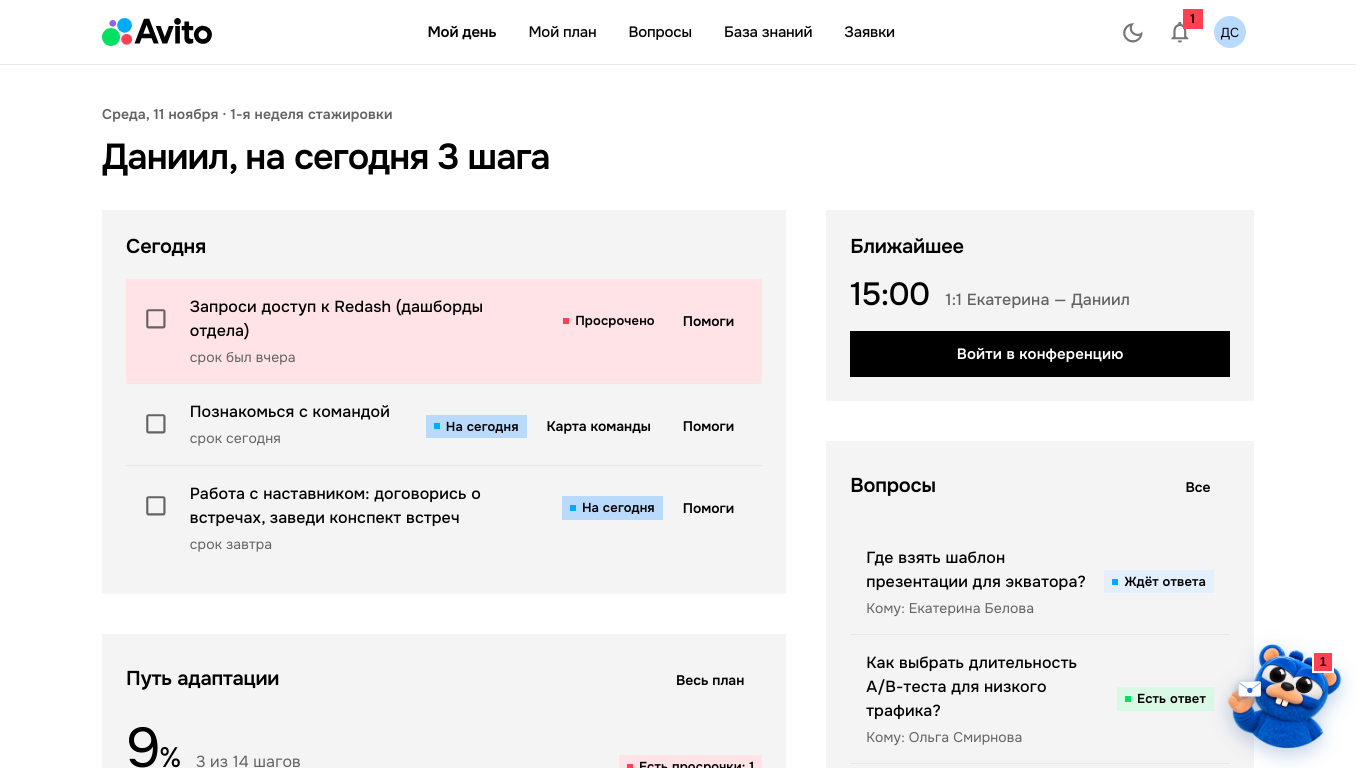
it: стажёр › при сбое модели видит упрощённый режим и повторяет вопрос
The image size is (1366, 768).
Expected: the heading "Даниил, на сегодня 3 шага" is shown, [102,137,550,178]
Click the button named "Открыть чат с Напарником": {"x": 1284, "y": 695} [1227,643,1342,748]
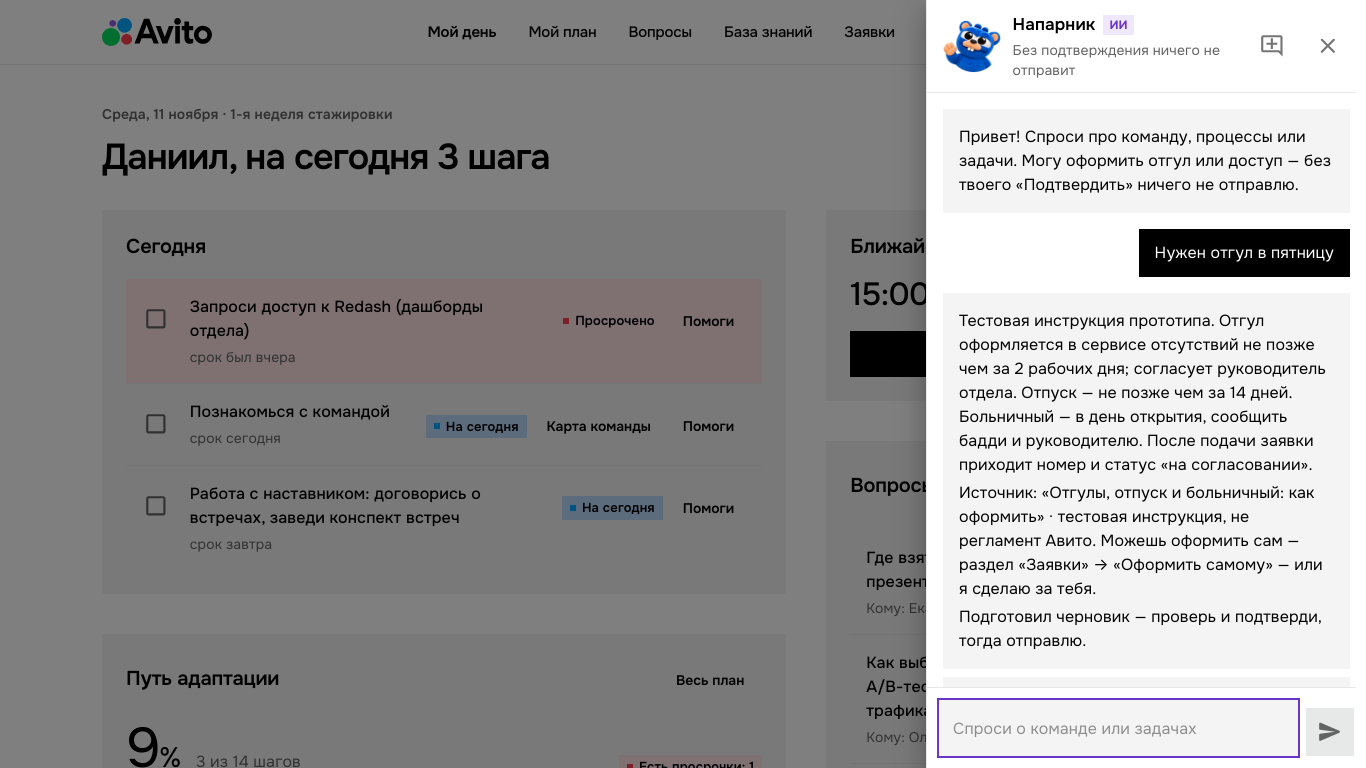
In the text box with placeholder "Спроси о команде или задачах": {"x": 1118, "y": 728} [953,716,1284,740], type "Что такое витрина?"
Then press Enter
(page scrolled)
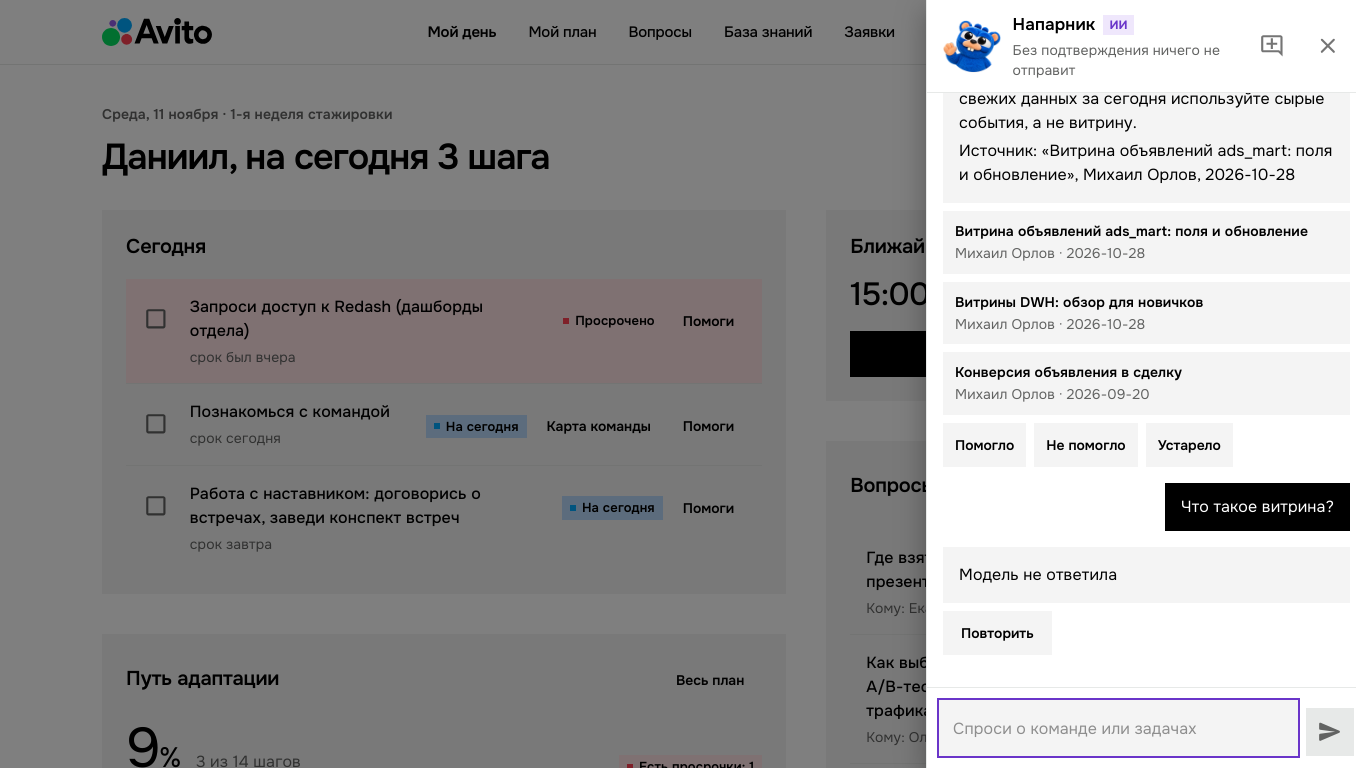
Expected: the text "Модель не ответила" is shown, [959,564,1117,585]
Click the button "Повторить": {"x": 997, "y": 633} [943,611,1052,656]
(page scrolled)
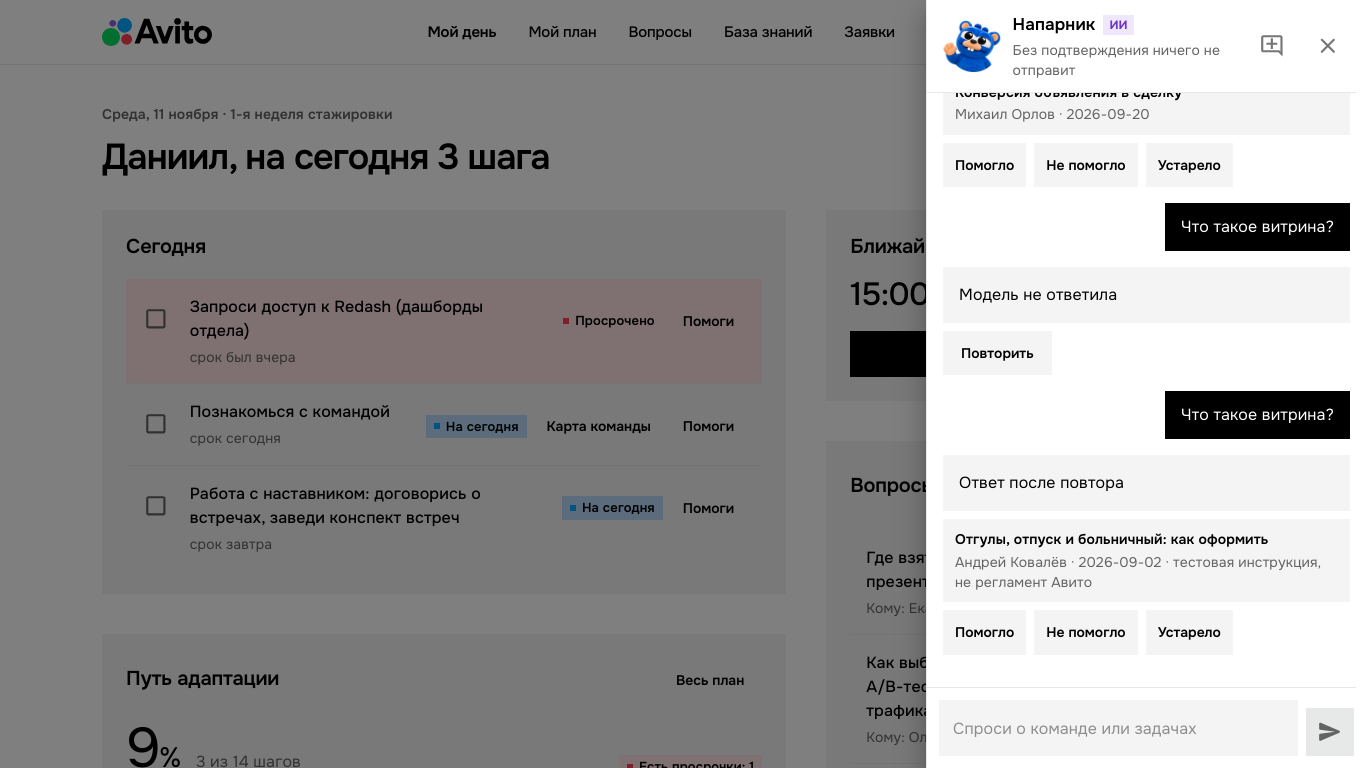
Expected: the text "Ответ после повтора" is shown, [959,472,1124,494]
